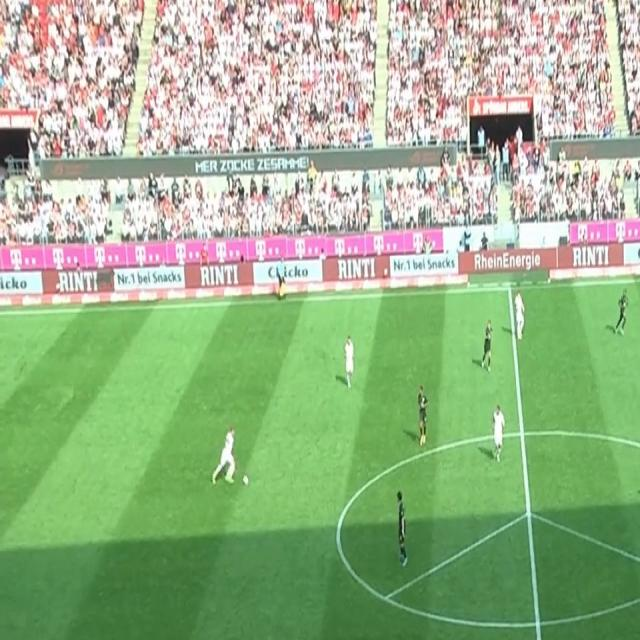ball: (242, 473, 250, 487)
